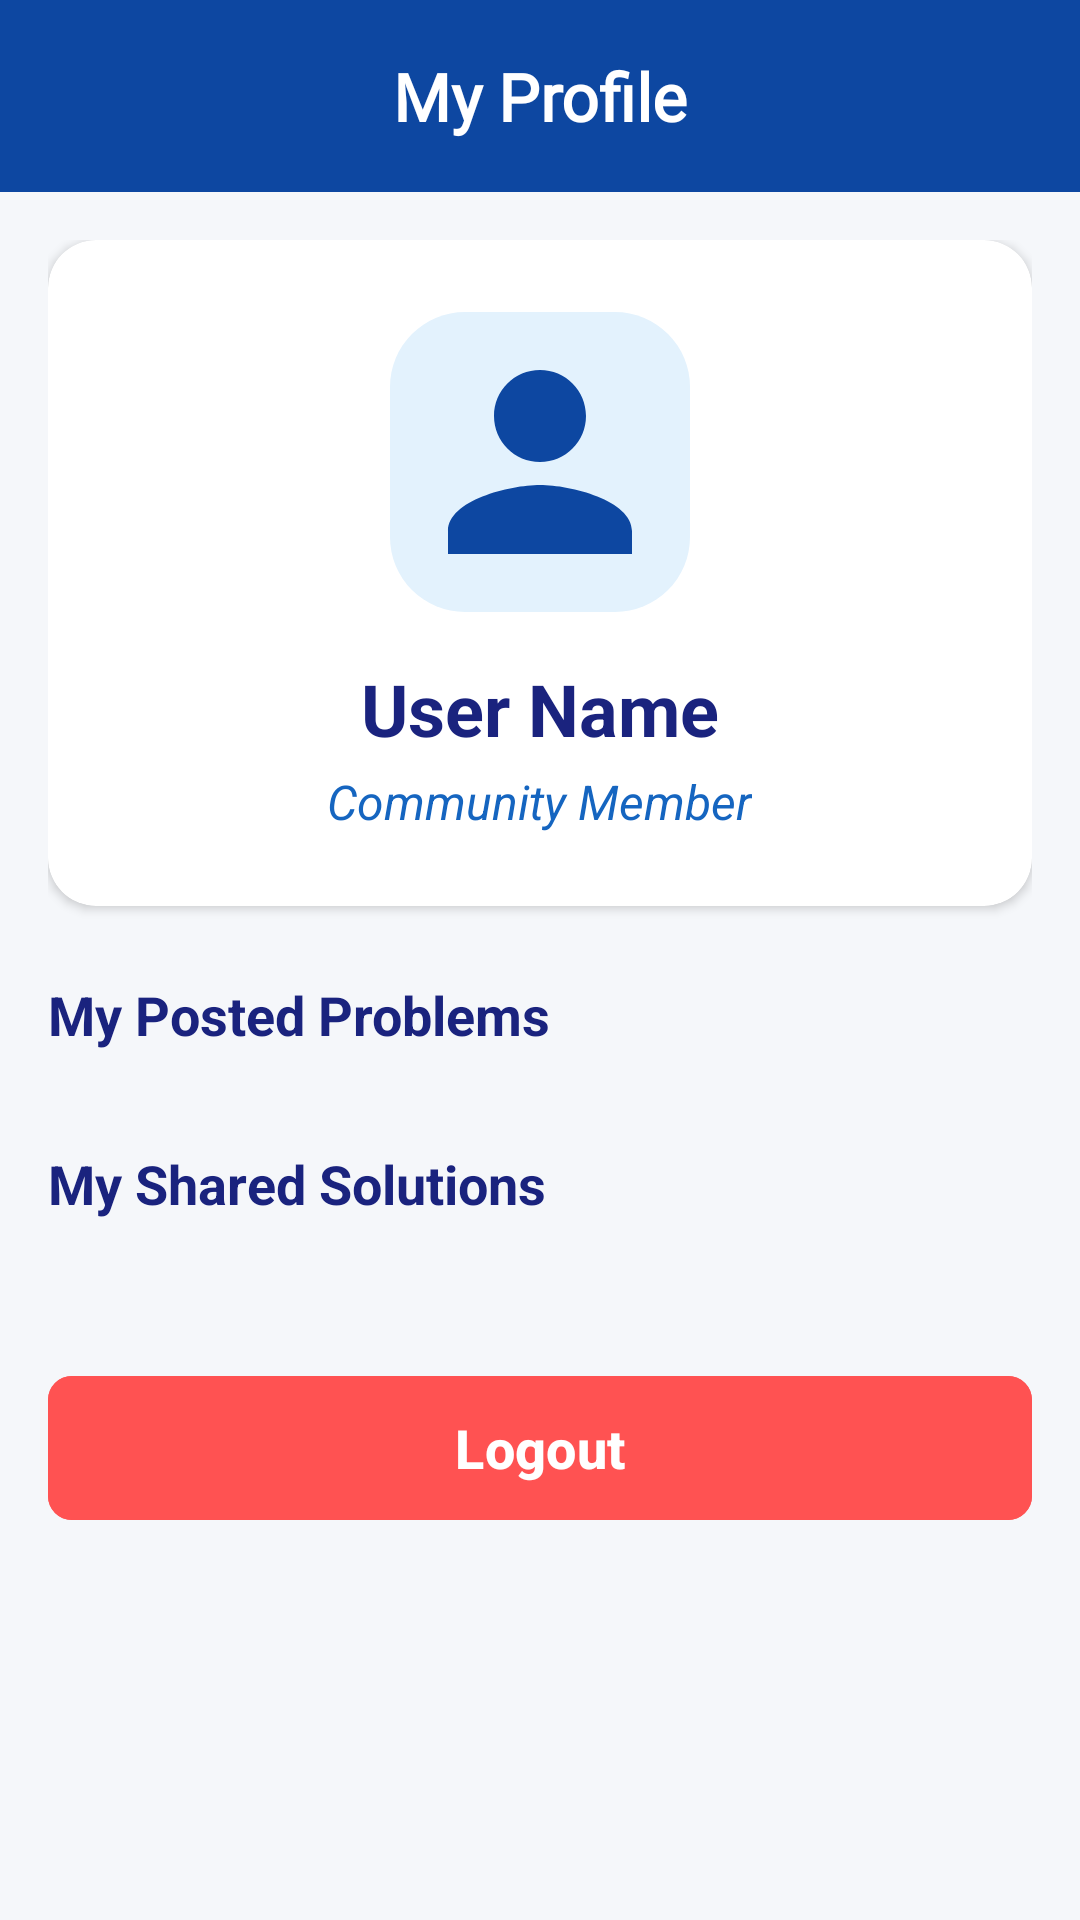

Screen size 1080 x 1920. Icon name, then its box in pixels as (x1, y1, x2, y2):
profile: (390, 312, 690, 612)
